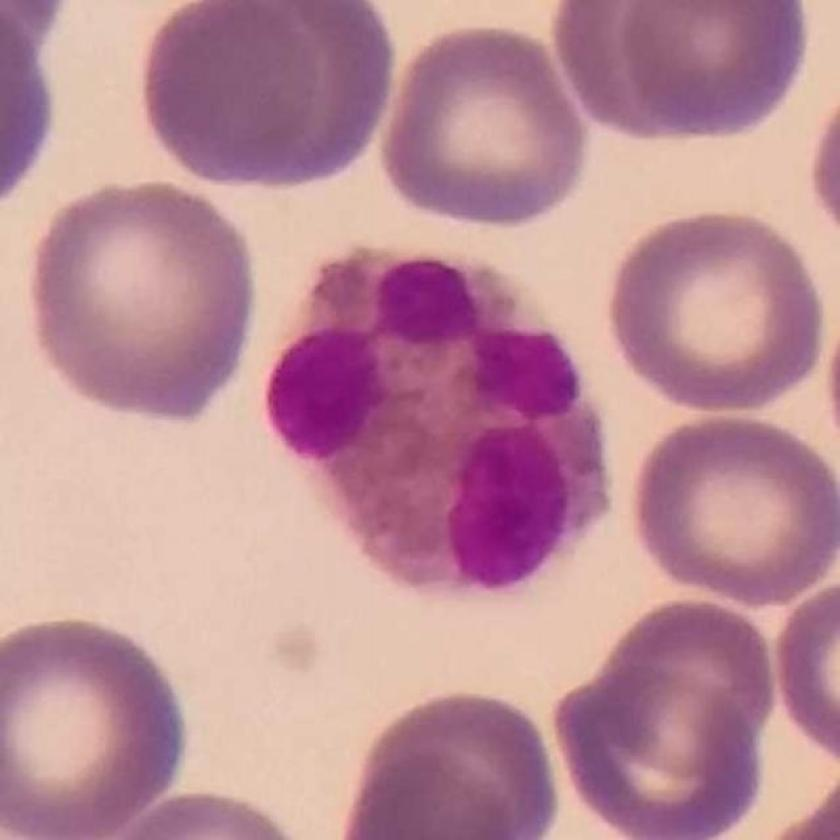eosinophil: (269, 243, 618, 595)
